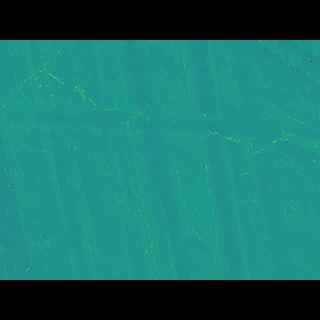Loch: (0, 109, 320, 147), (0, 168, 138, 248)
